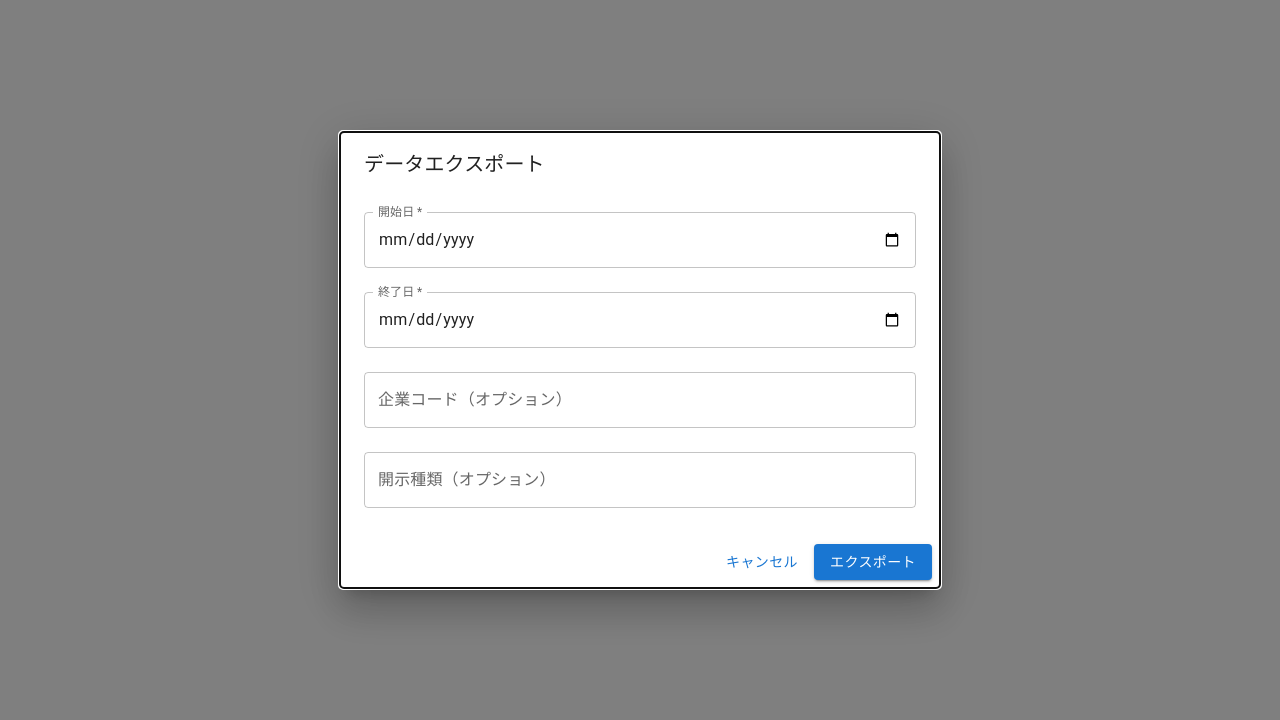
Test: ExportDialog › エクスポート完了時にダウンロードリンクを表示する
フォーム入力とエクスポート実行
In the date field labelled "開始日 *": (640, 240) [364, 212, 916, 268], type "2024-01-01"
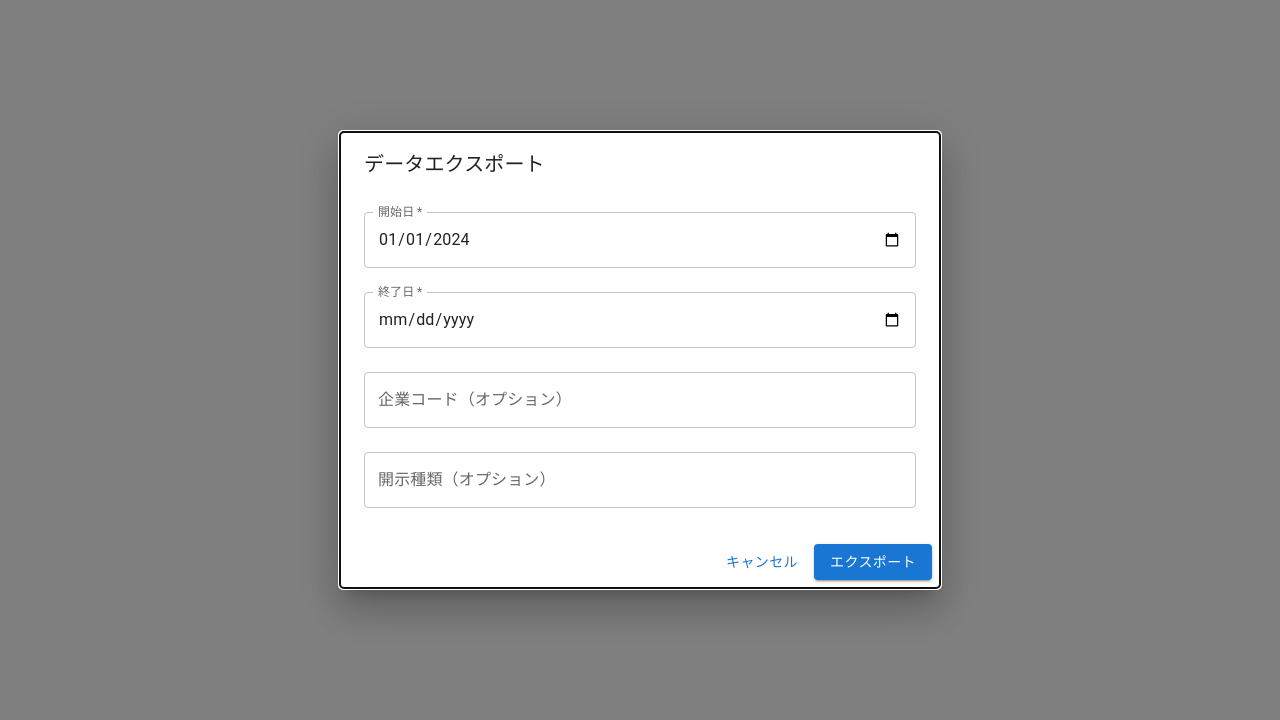
In the date field labelled "終了日 *": (640, 320) [364, 292, 916, 348], type "2024-01-31"
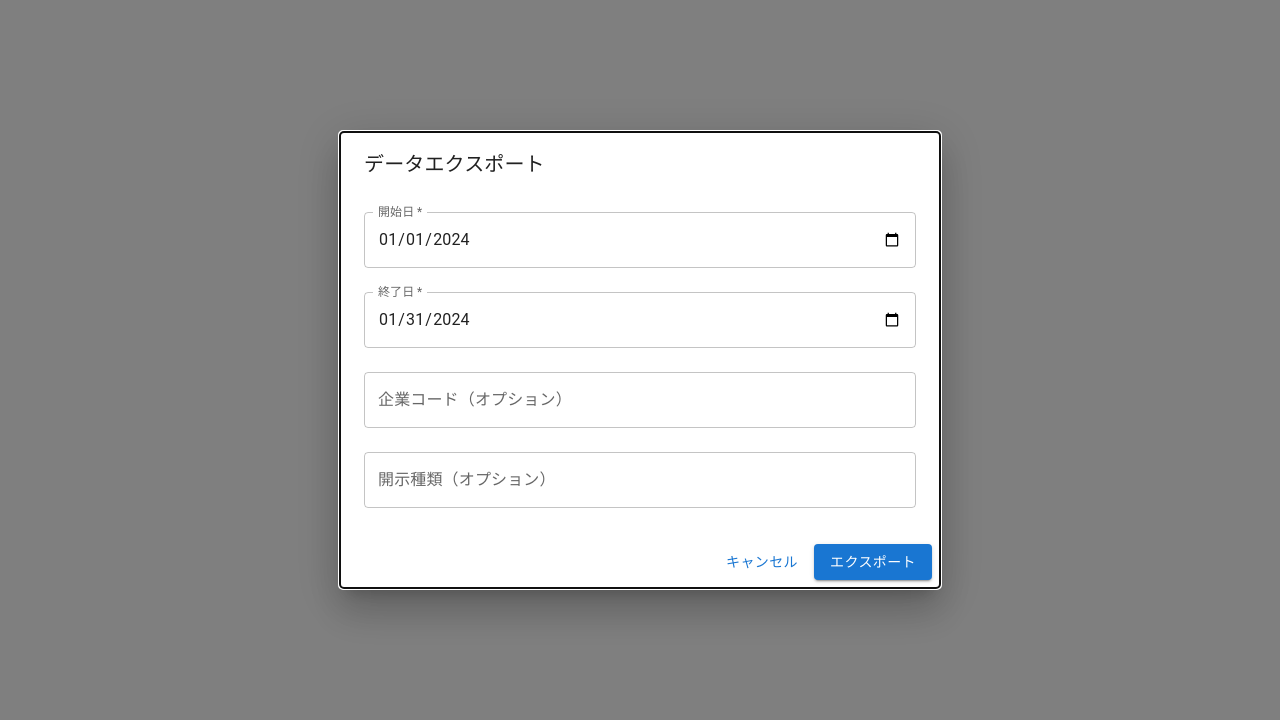
Click the button "エクスポート": click(873, 562) [814, 544, 932, 580]
Wait 5000 ms
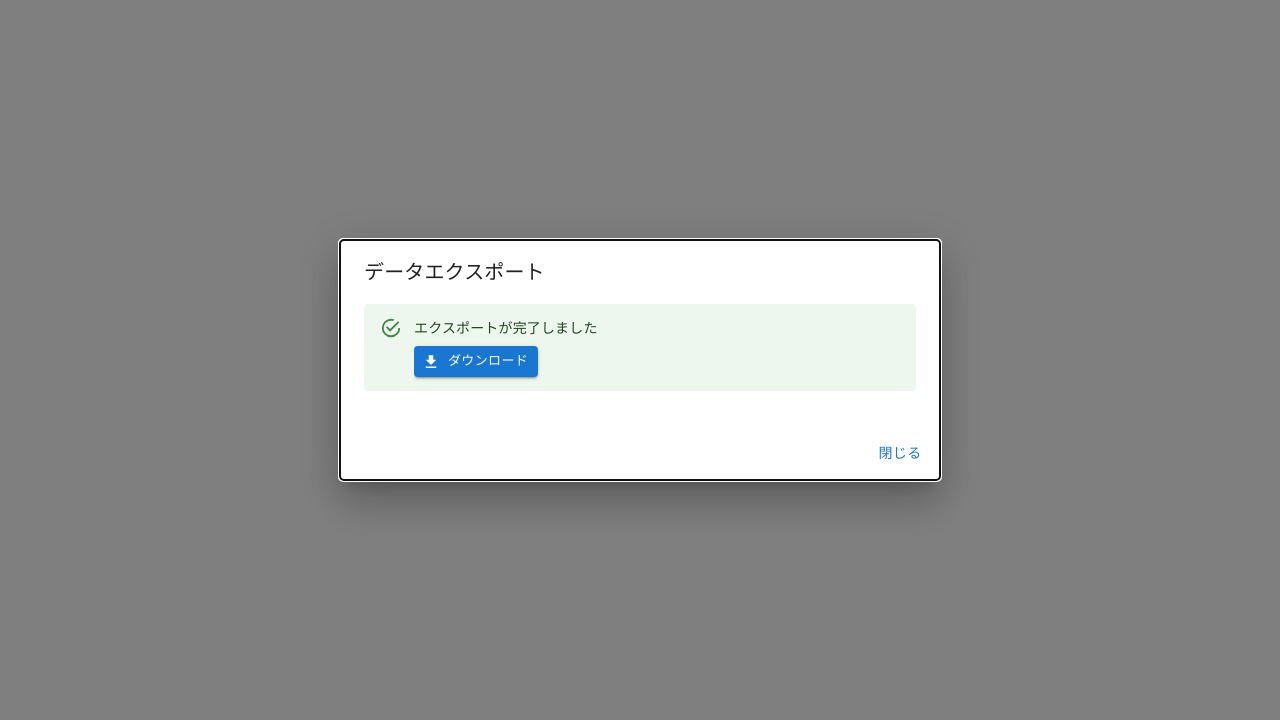
Check: the text "エクスポートが完了しました ダウンロード" is shown, box [414, 310, 598, 385]
Check: the button "ダウンロード" is shown, box [414, 346, 538, 377]
